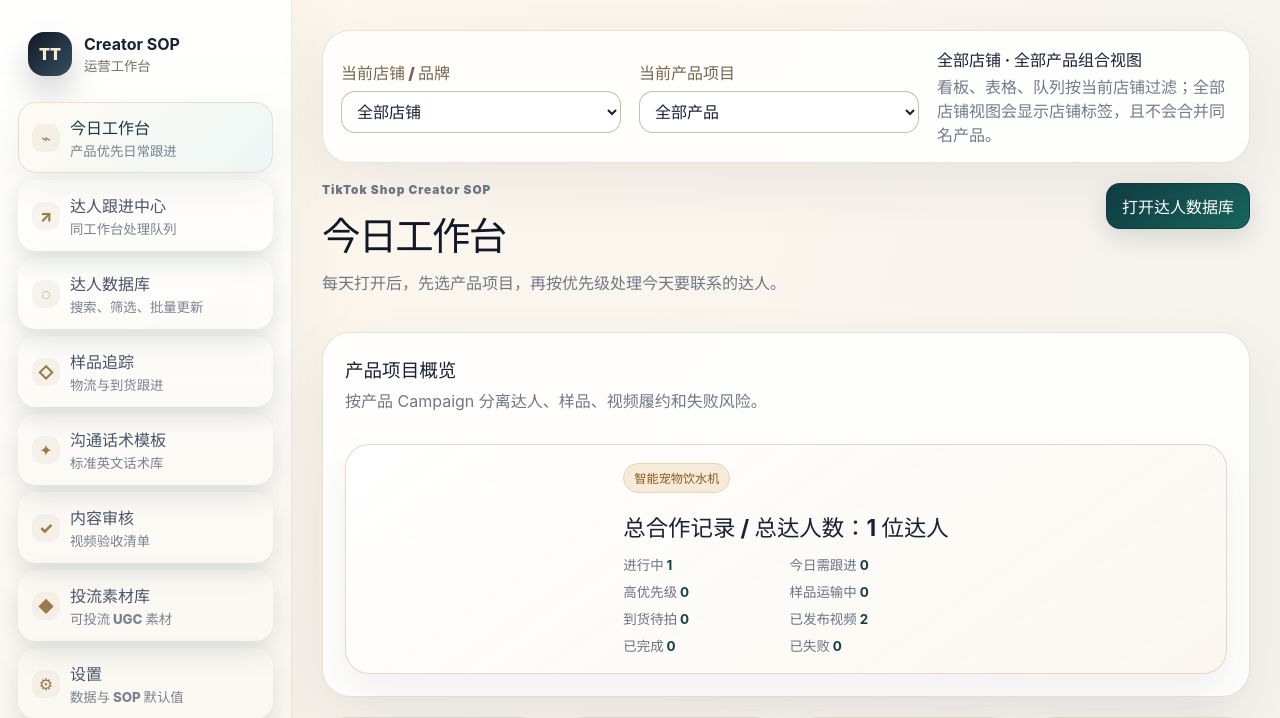
Test: templates, follow-up, samples, review, and ads modules › renders content review checklists and ads material tags
Click the button "✓ 内容审核 视频验收清单".
click(146, 528)  # box [18,492,273,563]
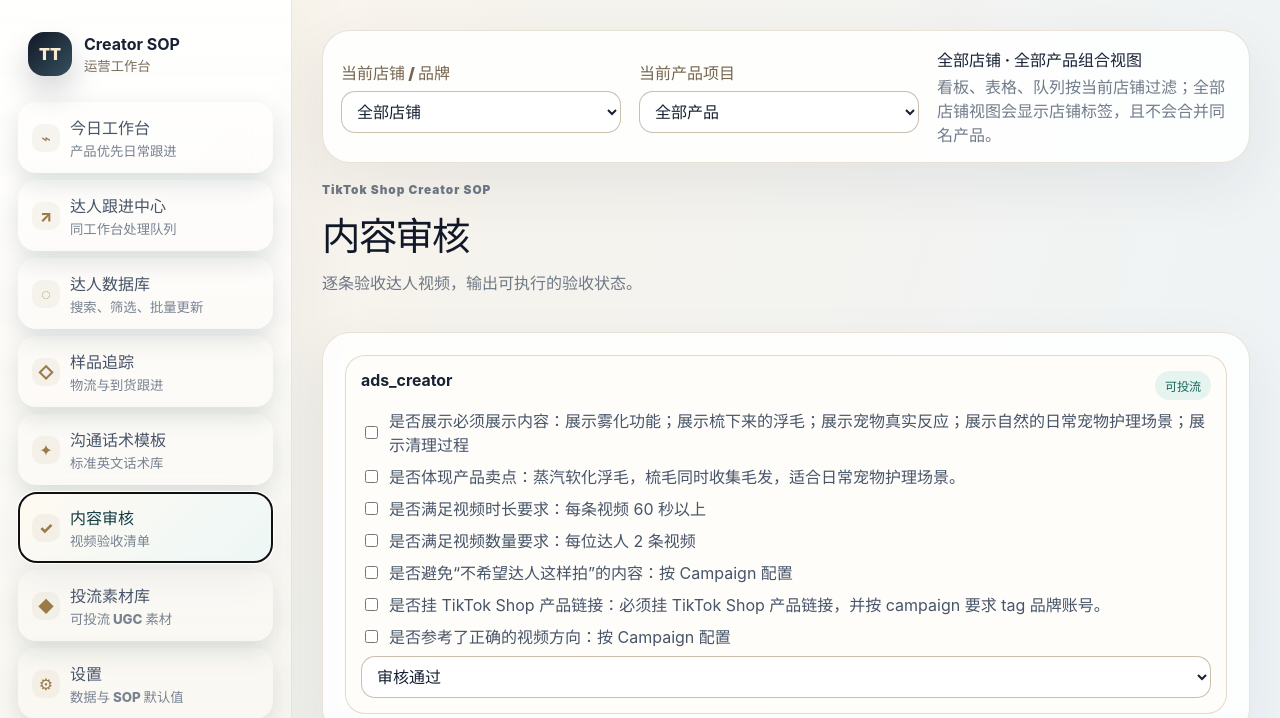
Check: the text "是否展示必须展示内容：展示雾化功能；展示梳下来的浮毛；展示宠物真实反应；展示自然的日常宠物护理场景；展示清理过程" is shown, box [361,408,1211,456]
Check: the text "是否挂 TikTok Shop 产品链接" is shown, box [389,595,1110,615]
Check: the dropdown showing "审核通过" is shown, box [361,656,1211,698]
Click the button "◆ 投流素材库 可投流 UGC 素材".
click(146, 606)  # box [18,570,273,641]
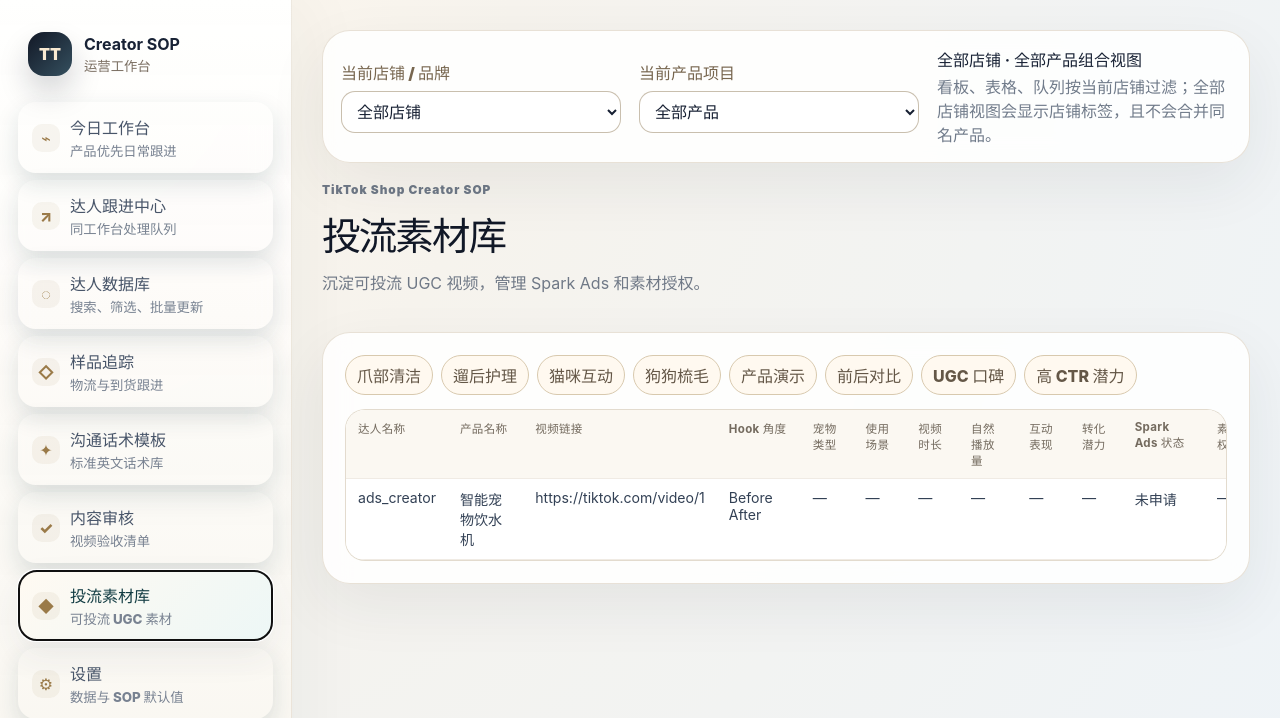
Check: the text "爪部清洁" is shown, box [345,355,433,395]
Check: the text "高 CTR 潜力" is shown, box [1024,355,1136,395]
Check: the text "https://tiktok.com/video/1" is shown, box [523,479,717,560]
